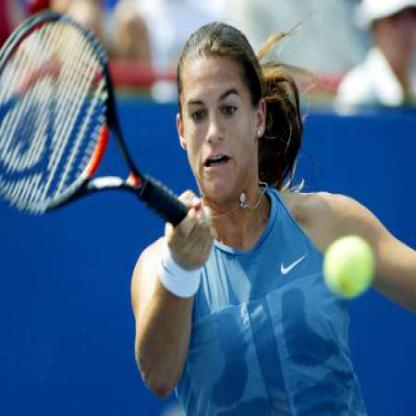face: (180, 25, 257, 203)
